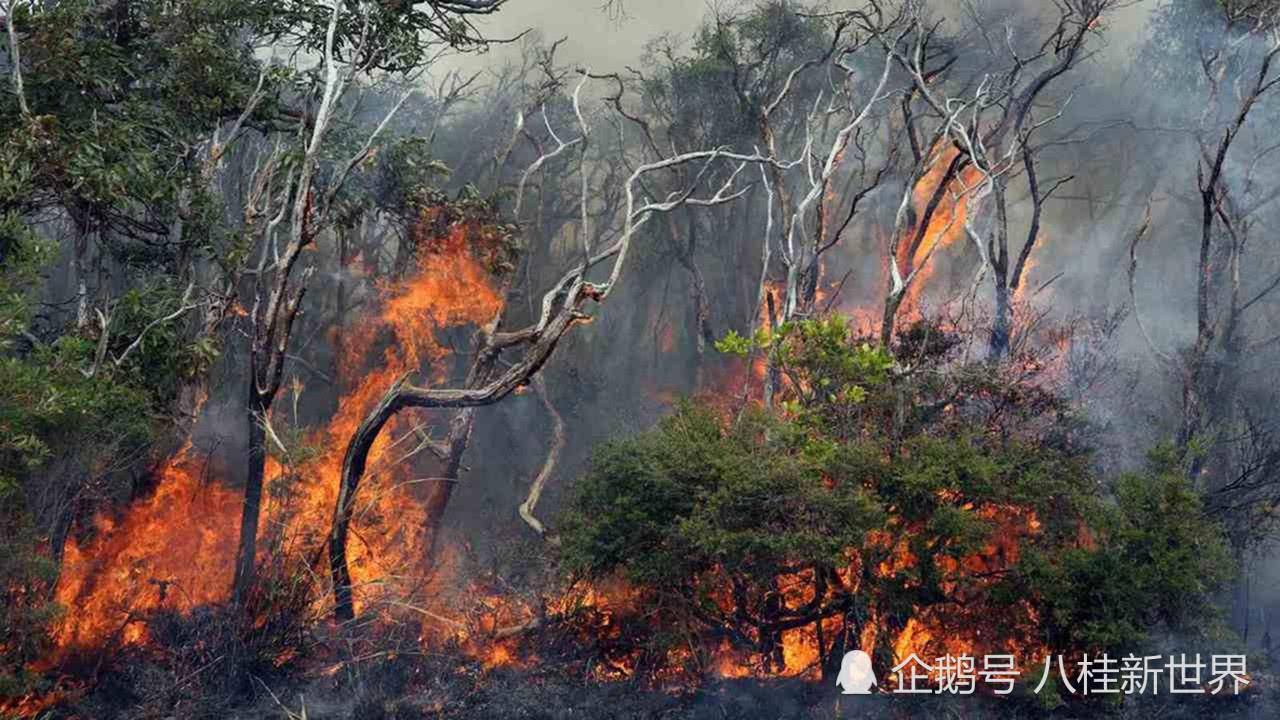fire: (72, 491, 433, 615), (761, 563, 1044, 653), (357, 271, 497, 362)
smoke: (1014, 59, 1274, 393), (416, 4, 704, 171)
